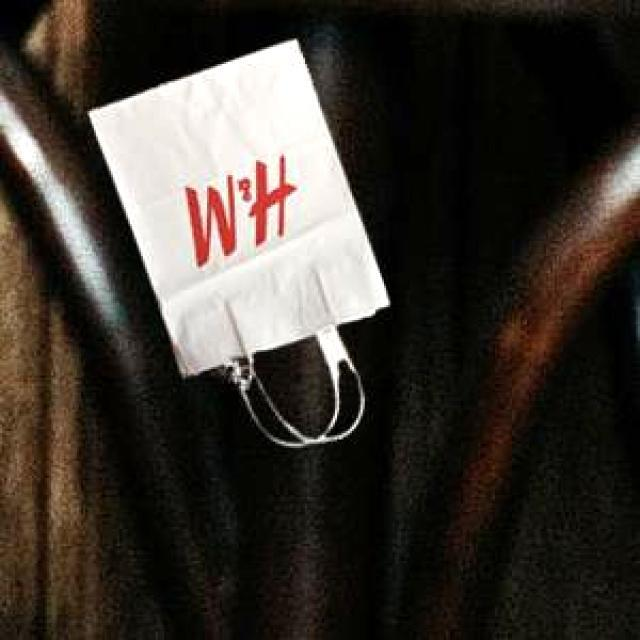Paper_Bag: (88, 38, 386, 440)
